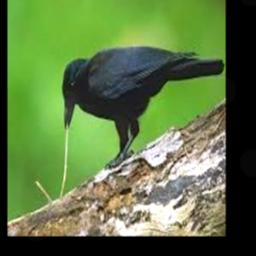Crow: (61, 45, 224, 166)
